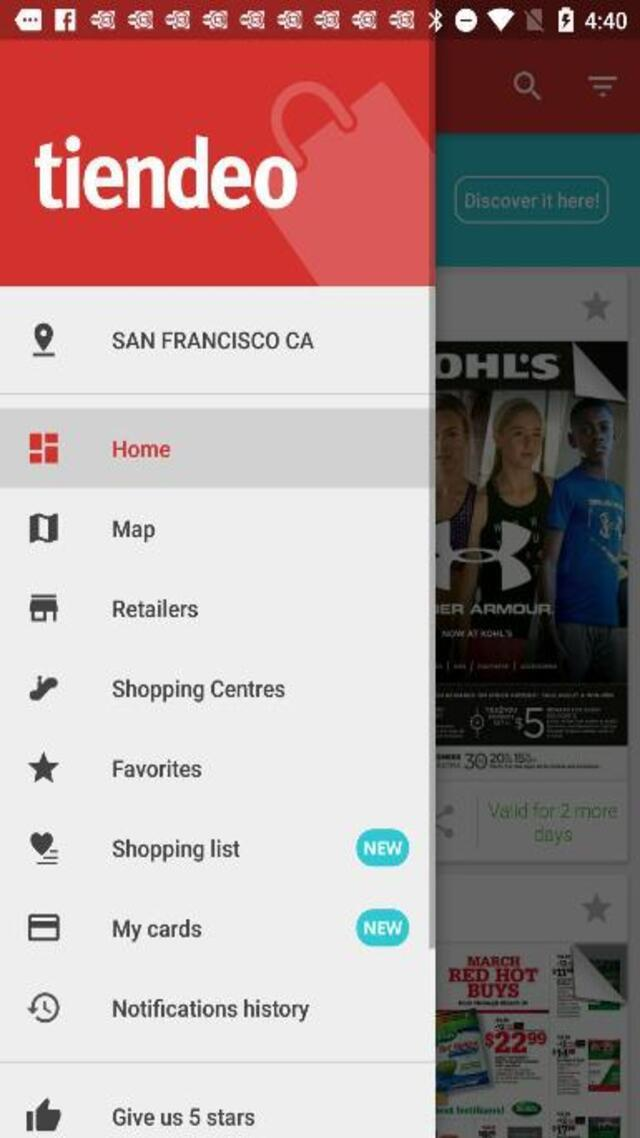Icon: (26, 1096, 60, 1130), (27, 750, 59, 783), (26, 992, 59, 1021), (28, 513, 58, 543), (27, 913, 59, 940), (28, 594, 58, 622), (29, 433, 57, 463), (32, 832, 58, 864), (32, 322, 54, 356), (29, 676, 57, 700)
Text: (35, 132, 298, 208), (113, 998, 309, 1022), (113, 678, 286, 702), (112, 330, 314, 348), (112, 838, 240, 862), (114, 1108, 255, 1126), (114, 918, 202, 942), (114, 759, 202, 777), (114, 599, 199, 617), (113, 439, 170, 457), (114, 521, 156, 542)
TextButton: (356, 908, 409, 945), (356, 828, 409, 865)
